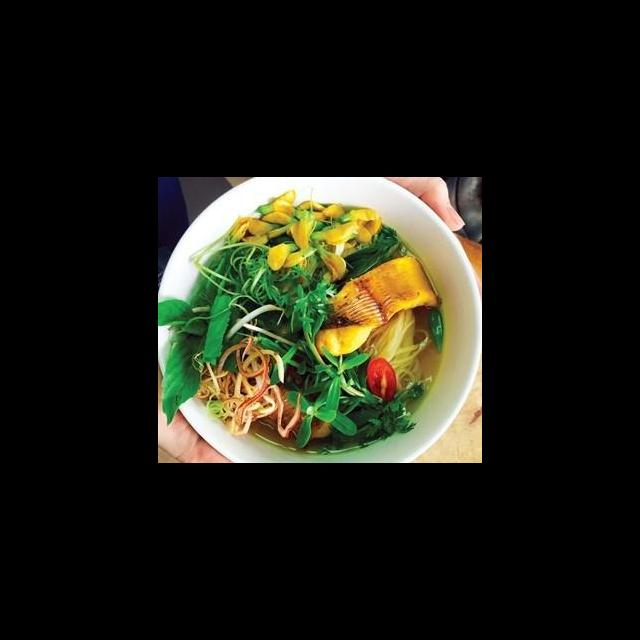bun: (363, 302, 437, 400)
bun ca: (160, 190, 482, 463)
ca: (308, 245, 446, 358)
rau ram: (425, 306, 447, 357)
